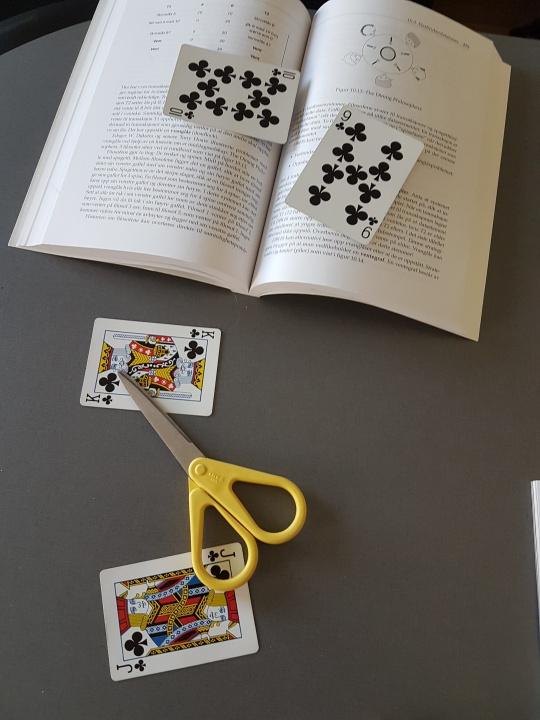10: (162, 34, 305, 149)
9: (282, 96, 417, 261)
jack: (100, 525, 260, 692)
king: (78, 305, 225, 422)
